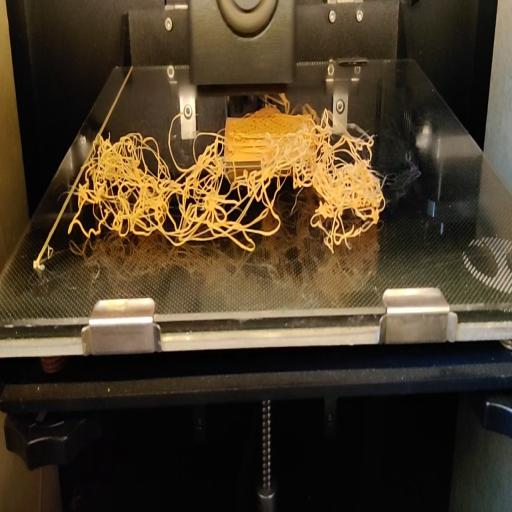spaghetti: (68, 107, 390, 261)
